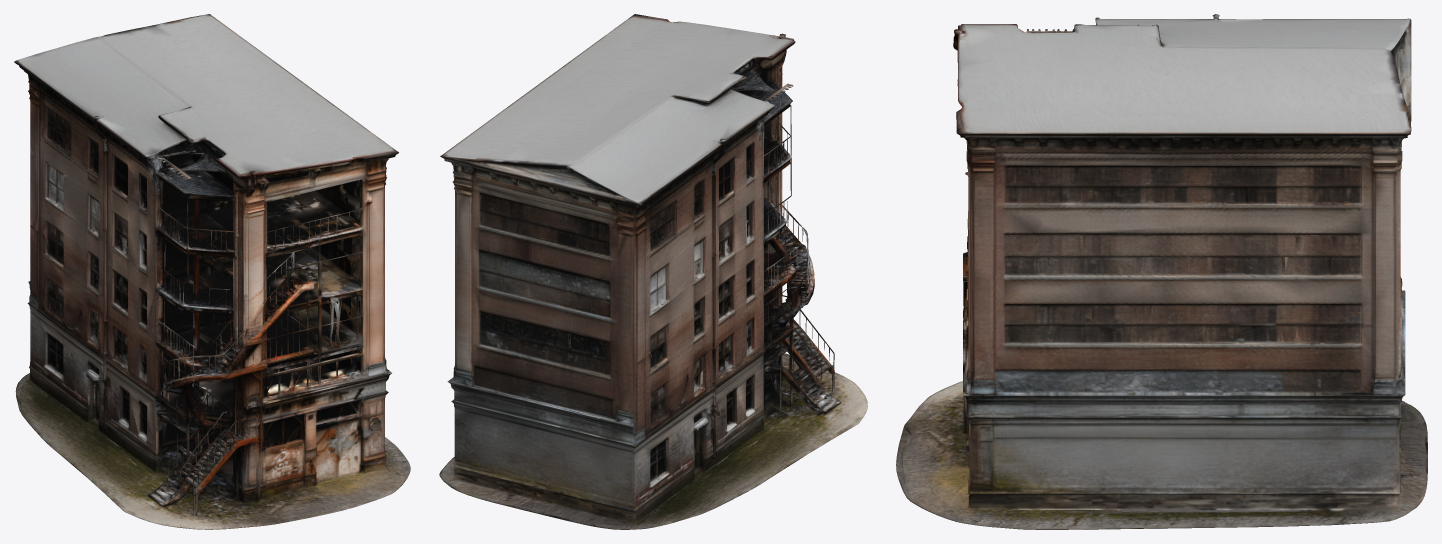
The model's file is abandoned-house.glb.
3 views of the same model, side by side, from view 1: azimuth 30°, elevation 25°; view 2: azimuth 150°, elevation 25°; view 3: azimuth 270°, elevation 25° (orthographic). The views are drawn at different scales.
Parts seen in each view (by area): view 1: material; view 2: material; view 3: material.
Part boxes in pixels (x1=…): material: x1=14, y1=14, x2=410, y2=529; material: x1=439, y1=14, x2=867, y2=529; material: x1=896, y1=14, x2=1427, y2=529.
Bounding box in the file's own units: 0.6226 × 0.7318 × 0.8807.
1 material, 1 textured.
